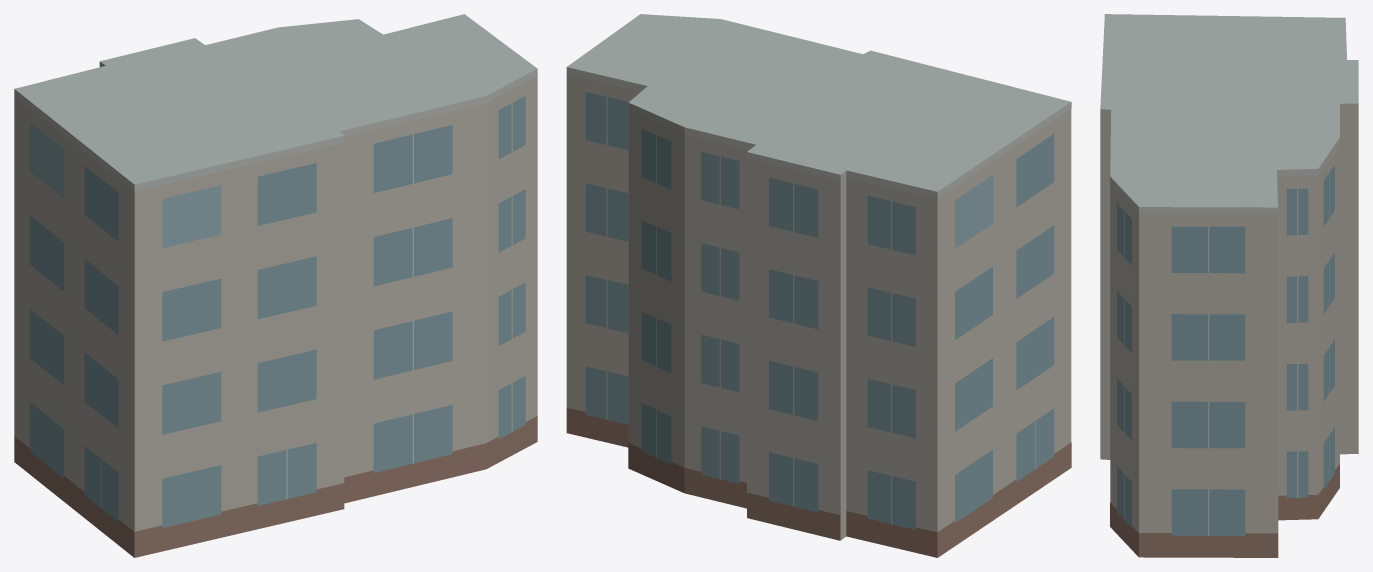
File: survey-upis-32633405.glb
3 renders of one model, left to right at view 1: azimuth 30°, elevation 25°; view 2: azimuth 150°, elevation 25°; view 3: azimuth 270°, elevation 25°, orthographic. The views are drawn at different scales.
Visible parts, largest first — view 1: survey-upis-32633405.tmp; view 2: survey-upis-32633405.tmp; view 3: survey-upis-32633405.tmp.
Boxes of the visible parts, box(x1,y1,x2,y2) form: survey-upis-32633405.tmp: box(14, 14, 537, 557); survey-upis-32633405.tmp: box(566, 14, 1071, 557); survey-upis-32633405.tmp: box(1100, 14, 1358, 557).
Bounding box in the file's own units: 15.64 × 13.2 × 8.83.
